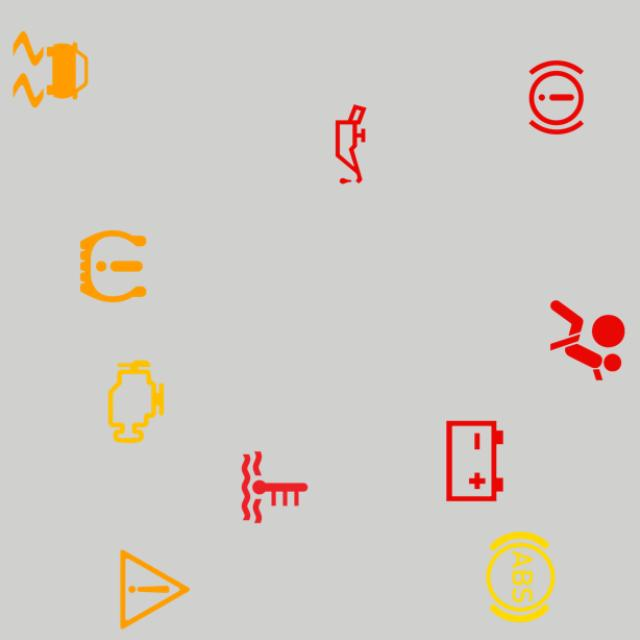Anti Lock Braking System: (471, 528, 570, 626)
Braking System Issue: (506, 48, 606, 147)
Charging System Issue: (426, 412, 524, 511)
Check Engine: (86, 352, 186, 452)
Electronic Stability Problem -ESP-: (1, 20, 100, 119)
Engine Overheating Warning Light: (225, 438, 324, 537)
Low Engine Oil Warning Light: (301, 95, 400, 194)
Low Tire Pressure Warning Light: (64, 217, 162, 316)
Master warning light: (106, 540, 204, 639)
SRS-Airbag: (538, 291, 637, 390)
